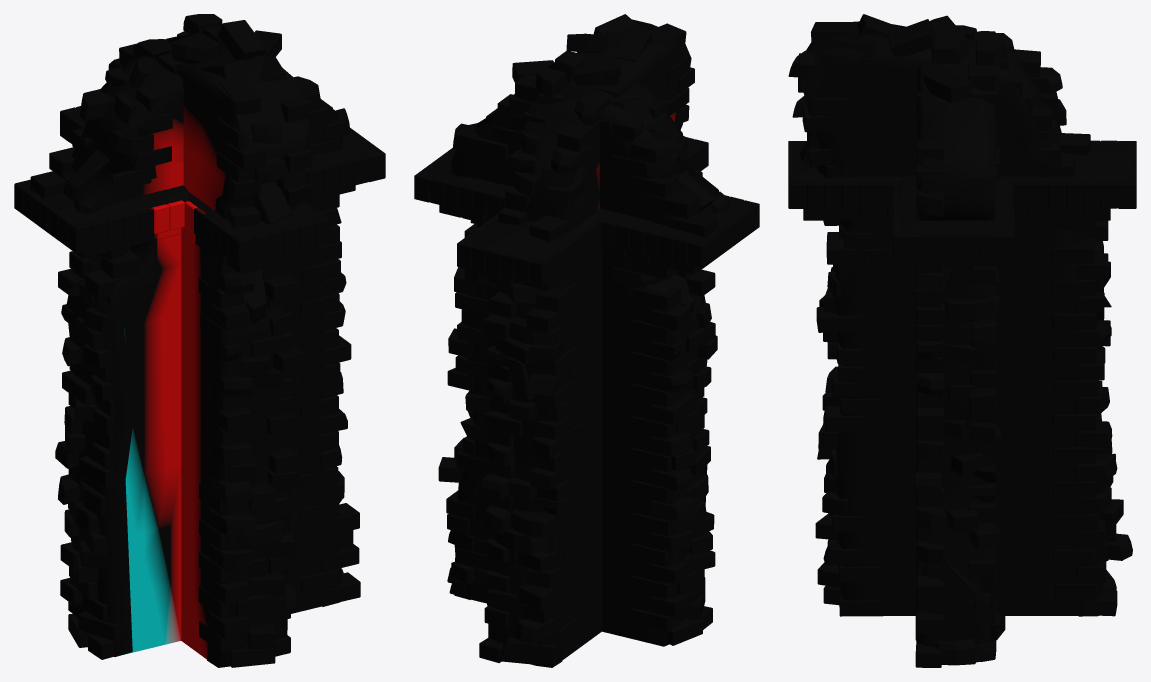
File: Fence8.fbx
3 renders of one model, left to right at view 1: azimuth 30°, elevation 25°; view 2: azimuth 150°, elevation 25°; view 3: azimuth 270°, elevation 25°, orthographic. The views are drawn at different scales.
Visible parts, largest first — view 1: SM_Ind_WL_Br_Cross01.mo; view 2: SM_Ind_WL_Br_Cross01.mo; view 3: SM_Ind_WL_Br_Cross01.mo.
Boxes of the visible parts, box(x1,y1,x2,y2) form: SM_Ind_WL_Br_Cross01.mo: box(14, 14, 385, 667); SM_Ind_WL_Br_Cross01.mo: box(414, 14, 759, 667); SM_Ind_WL_Br_Cross01.mo: box(788, 14, 1136, 667).
Bounding box in the file's own units: 239 × 444 × 239.
